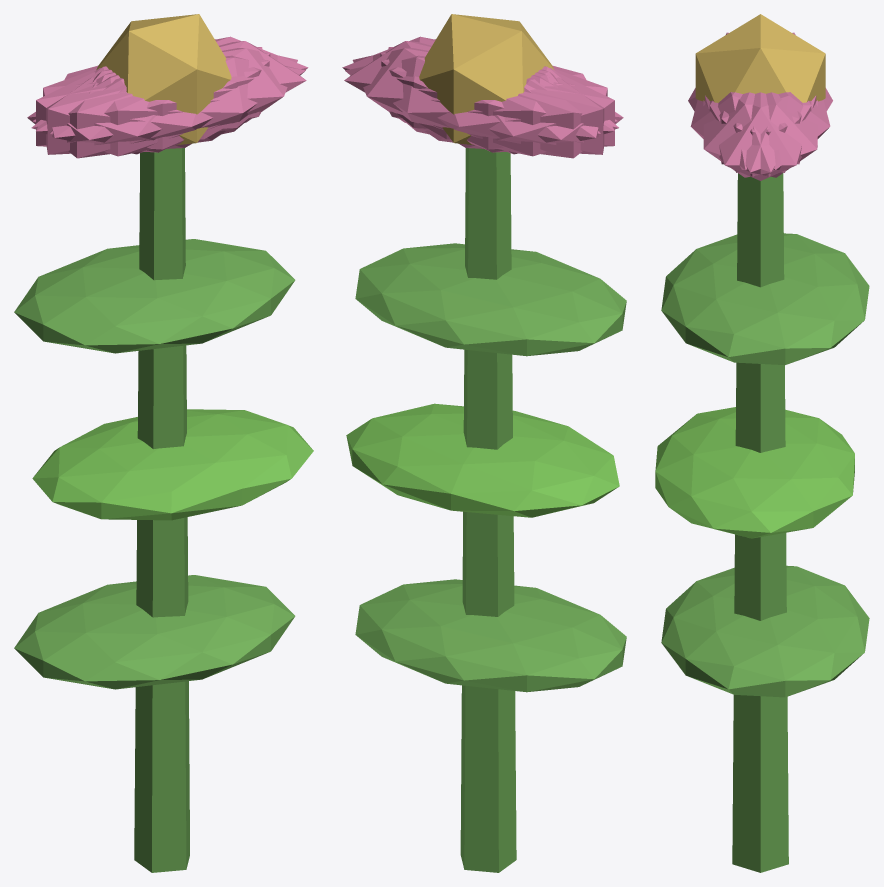
Rendered from polyscias-balfouriana.glb.
3 views of the same model, side by side, from view 1: azimuth 30°, elevation 25°; view 2: azimuth 150°, elevation 25°; view 3: azimuth 270°, elevation 25° (orthographic).
Visible parts, largest first — view 1: stem, leaf2, leaf1, leaf0, center, petal1, petal6, petal2, petal5, petal7, petal0, petal4 (+2 smaller); view 2: stem, leaf2, leaf0, leaf1, center, petal8, petal3, petal7, petal4, petal2, petal0, petal5 (+2 smaller); view 3: stem, leaf2, leaf1, leaf0, center, petal0, petal5, petal4, petal1, petal8.
Boxes of the visible parts, <box> form: stem: <box>134,148,189,872</box>; leaf2: <box>14,239,295,353</box>; leaf1: <box>32,409,313,520</box>; leaf0: <box>14,575,295,689</box>; center: <box>96,14,231,145</box>; petal1: <box>31,55,305,156</box>; petal6: <box>27,68,225,158</box>; petal2: <box>46,47,262,154</box>; petal5: <box>50,48,297,149</box>; petal7: <box>36,52,270,152</box>; petal0: <box>96,41,306,139</box>; petal4: <box>33,36,308,131</box>; stem: <box>460,148,516,872</box>; leaf2: <box>355,243,626,356</box>; leaf0: <box>355,579,626,692</box>; leaf1: <box>346,403,619,517</box>; center: <box>419,14,554,145</box>; petal8: <box>345,55,618,156</box>; petal3: <box>425,68,623,158</box>; petal7: <box>388,47,604,154</box>; petal4: <box>352,48,600,149</box>; petal2: <box>380,52,614,152</box>; petal0: <box>344,41,554,139</box>; petal5: <box>342,36,617,131</box>; stem: <box>732,173,788,872</box>; leaf2: <box>661,233,869,365</box>; leaf1: <box>655,407,854,538</box>; leaf0: <box>661,565,869,697</box>; center: <box>695,14,825,102</box>; petal0: <box>705,92,816,180</box>; petal5: <box>703,92,811,177</box>; petal4: <box>709,92,817,177</box>; petal1: <box>690,92,801,169</box>; petal8: <box>719,92,830,169</box>.
Size of the model in its own units: 0.1452 by 0.431 by 0.1009.
